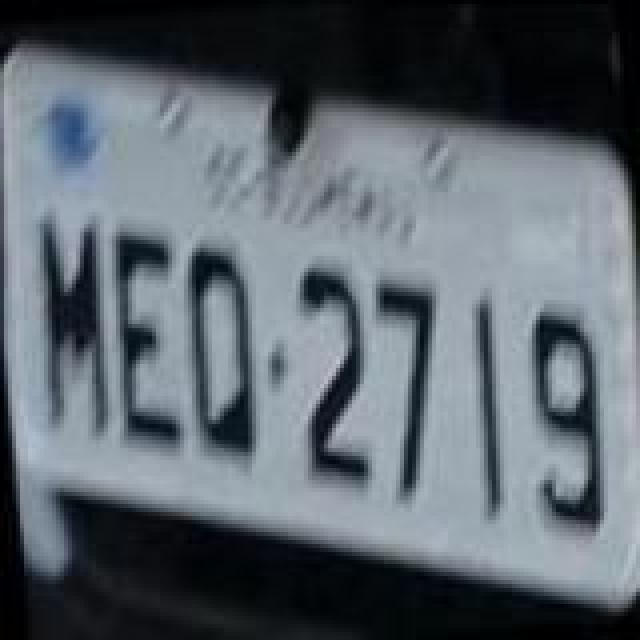1: (468, 302, 508, 514)
2: (294, 262, 374, 486)
7: (374, 276, 450, 492)
9: (526, 304, 610, 536)
E: (108, 232, 184, 448)
M: (34, 216, 114, 432)
Q: (180, 244, 256, 460)
